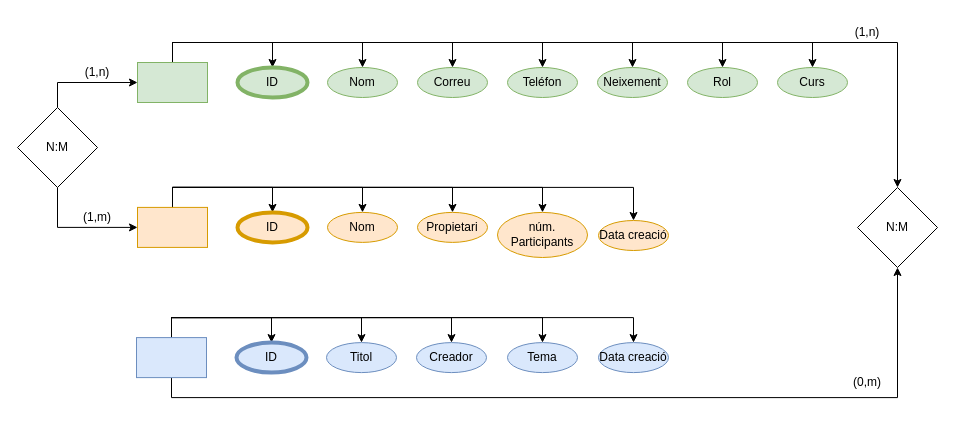
The diagram is 955 pixels wide and 423 high, and some of its shapes have lost their labels. The shapes that lost their labels are listed below. From the top down, each one's centre as x and y in pixels, then its label:
At [172,82]: "Usuaris".
At [172,226]: "Grups".
At [171,357]: "Notícies".
